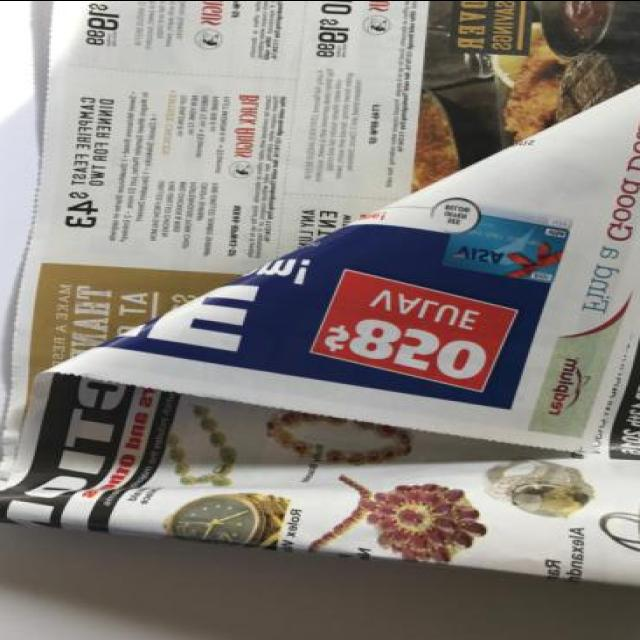kertas: (0, 0, 640, 590)
